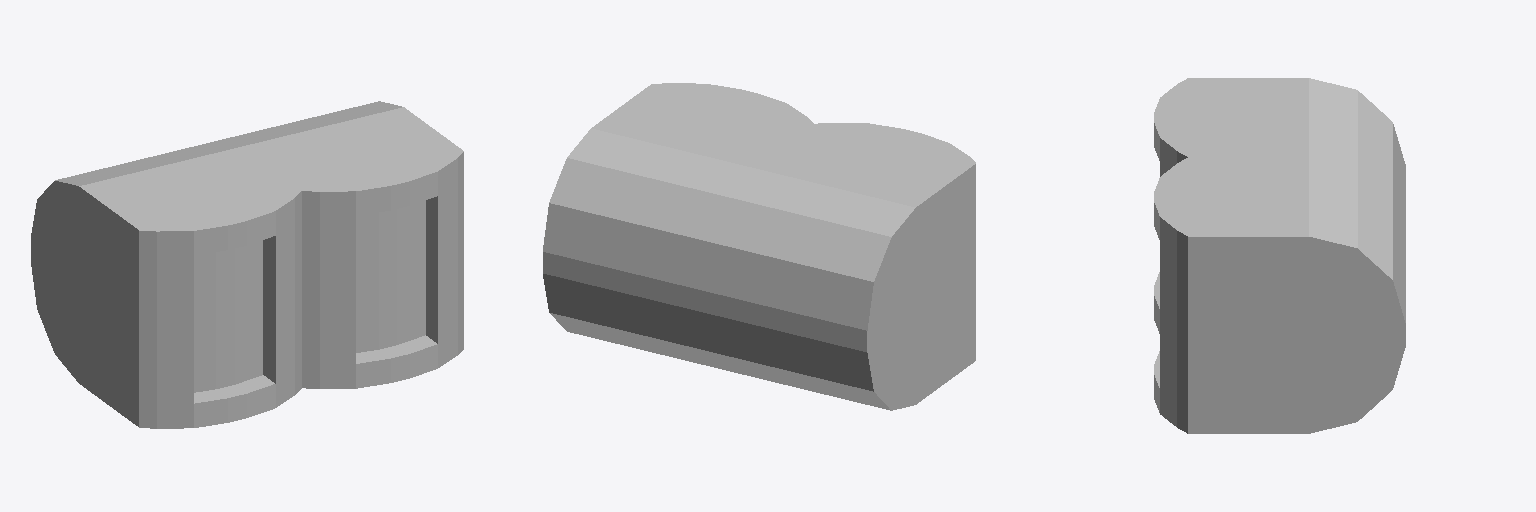
Rendered from QualityUpgradeB1.obj.
3 views of the same model, side by side, from view 1: azimuth 30°, elevation 25°; view 2: azimuth 150°, elevation 25°; view 3: azimuth 270°, elevation 25° (orthographic).
Parts seen in each view (by area): view 1: pCube15 QualityUpgradeB_PARTS; view 2: pCube15 QualityUpgradeB_PARTS; view 3: pCube15 QualityUpgradeB_PARTS.
Boxes of the visible parts, box(x1,y1,x2,y2) form: pCube15 QualityUpgradeB_PARTS: box(31, 101, 463, 428); pCube15 QualityUpgradeB_PARTS: box(543, 83, 975, 410); pCube15 QualityUpgradeB_PARTS: box(1154, 78, 1405, 433).
Size of the model in its own units: 1.16 by 0.6726 by 0.778.